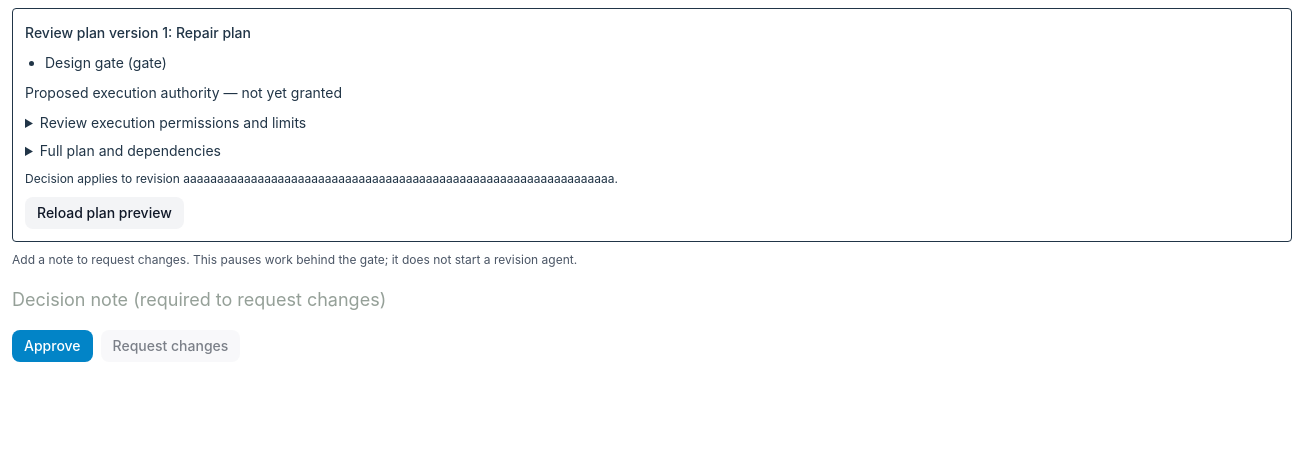
Test: a refused decision › reports a refusal with no message without rendering an empty alert
Click the button with test id "gate-approve" at (52, 346), box top-left (12, 330), bottom-right (93, 362)
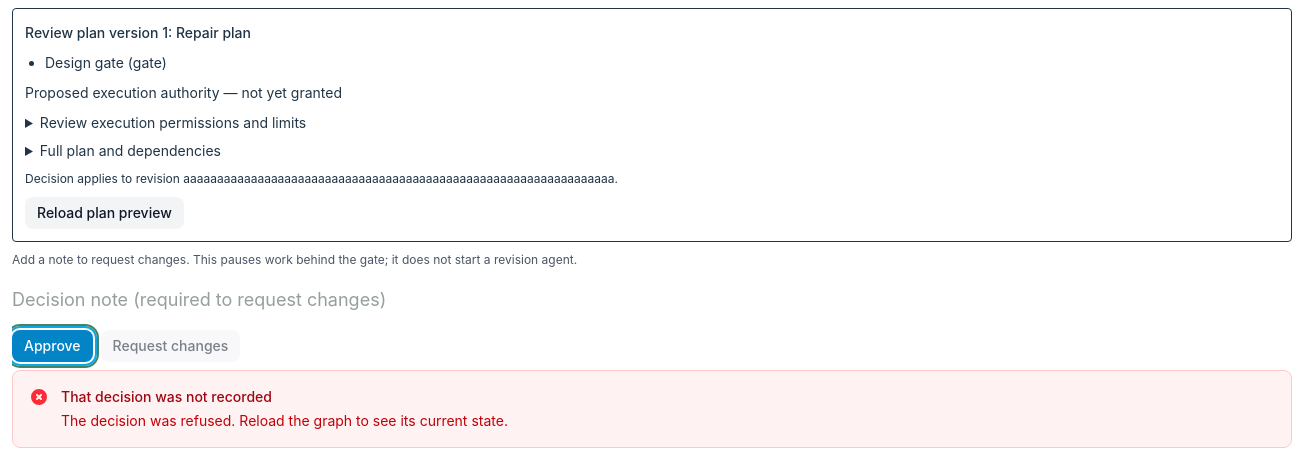
Expected: the text "decision was refused" is shown, top-left (61, 412), bottom-right (508, 429)
